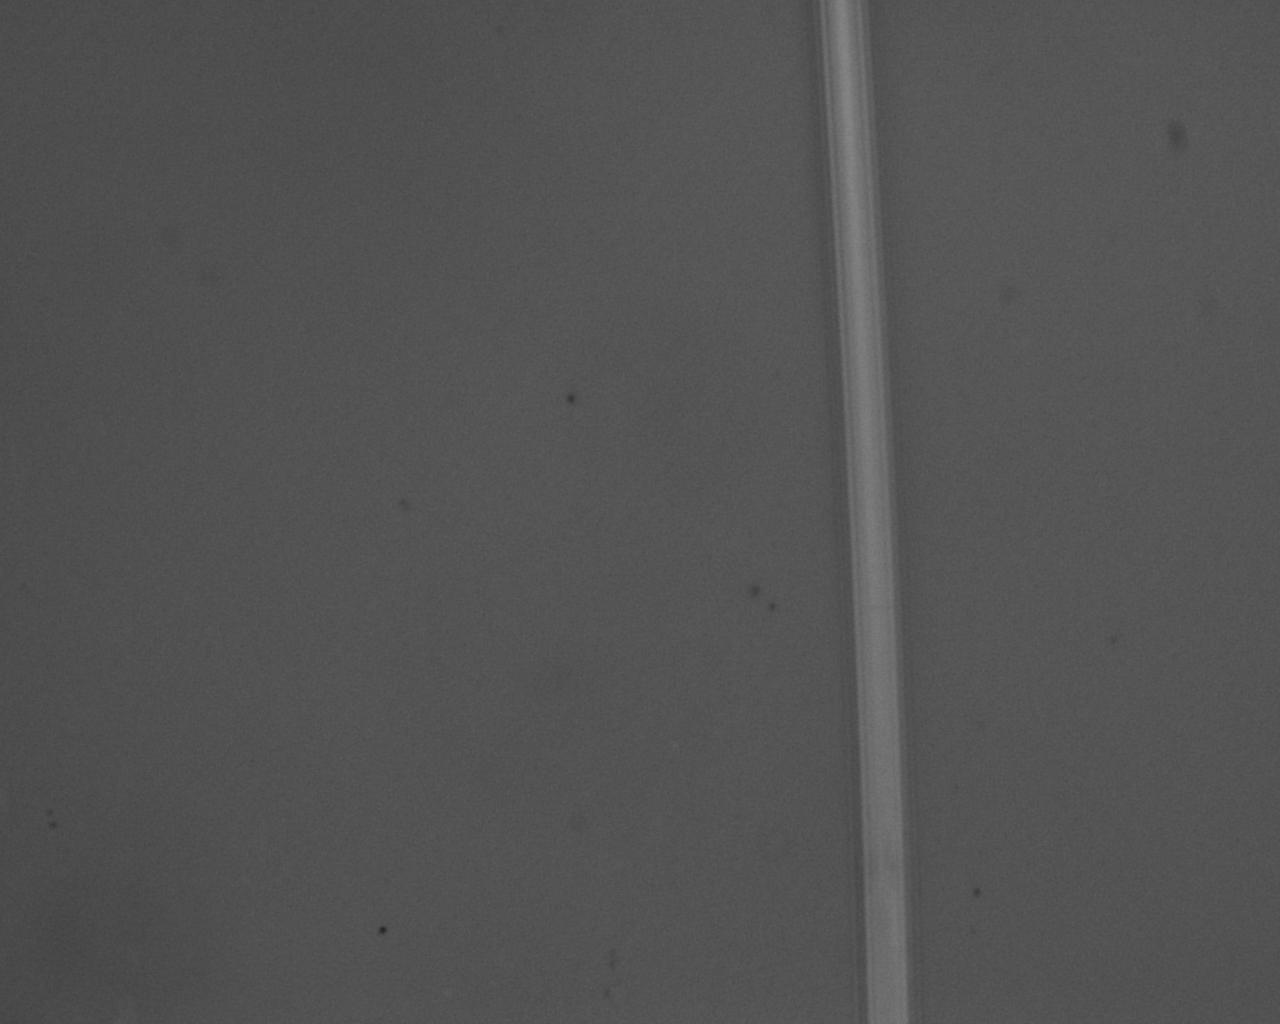fiber: (665, 360, 1280, 542), (0, 0, 217, 462), (0, 841, 665, 945)
